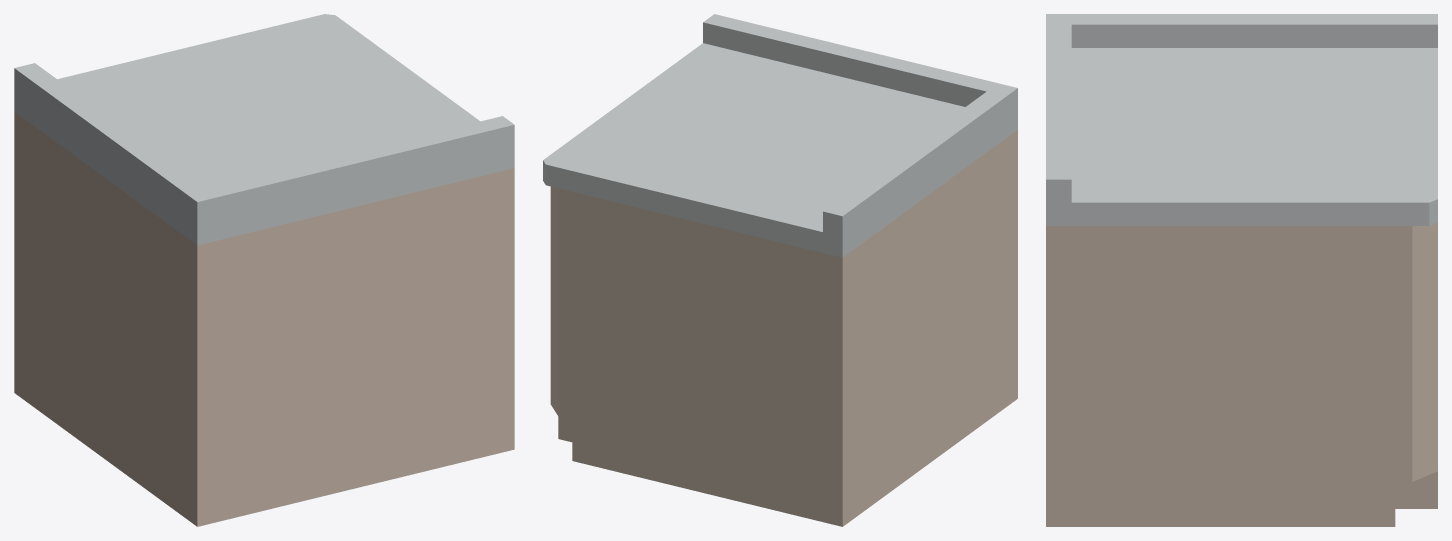
Rendered from furn_kitchenCabinetCornerInner.glb.
3 renders of one model, left to right at view 1: azimuth 30°, elevation 25°; view 2: azimuth 150°, elevation 25°; view 3: azimuth 270°, elevation 25°, orthographic. The views are drawn at different scales.
Size of the model in its own units: 0.92 by 0.9 by 0.92.
